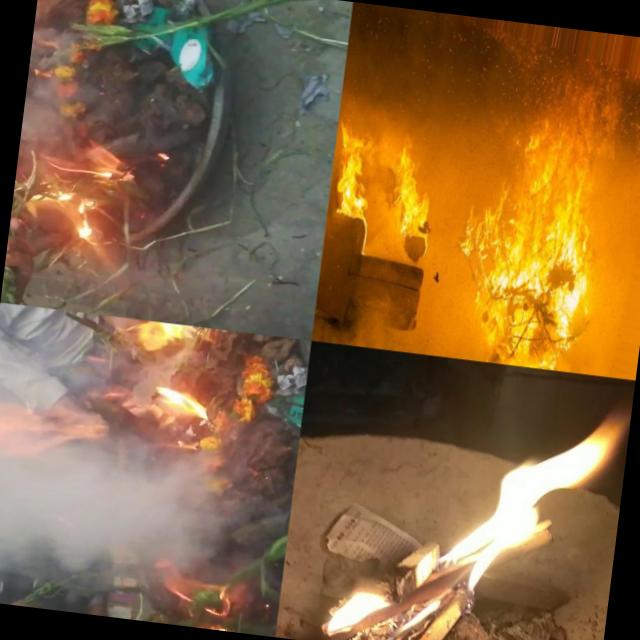fire: (316, 385, 630, 640), (459, 115, 608, 373), (29, 413, 102, 590), (386, 132, 439, 235), (334, 117, 378, 231), (76, 575, 118, 617), (140, 598, 188, 626)
smoke: (0, 302, 63, 606), (51, 310, 176, 427), (86, 422, 162, 579), (14, 0, 58, 189), (30, 581, 80, 612)
